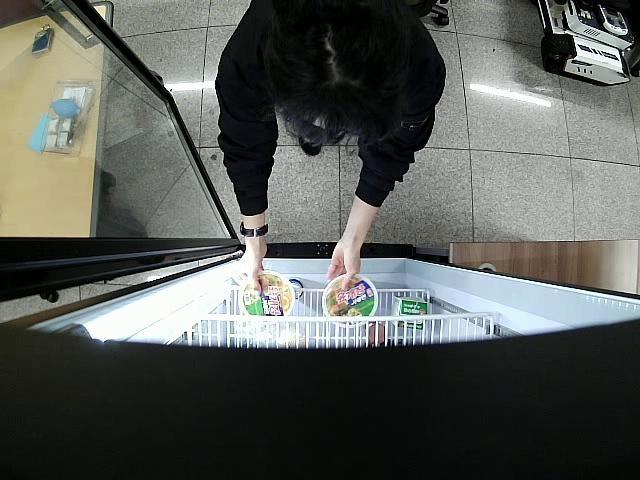09_yukGaeJang: (240, 270, 296, 323), (322, 274, 377, 326)
